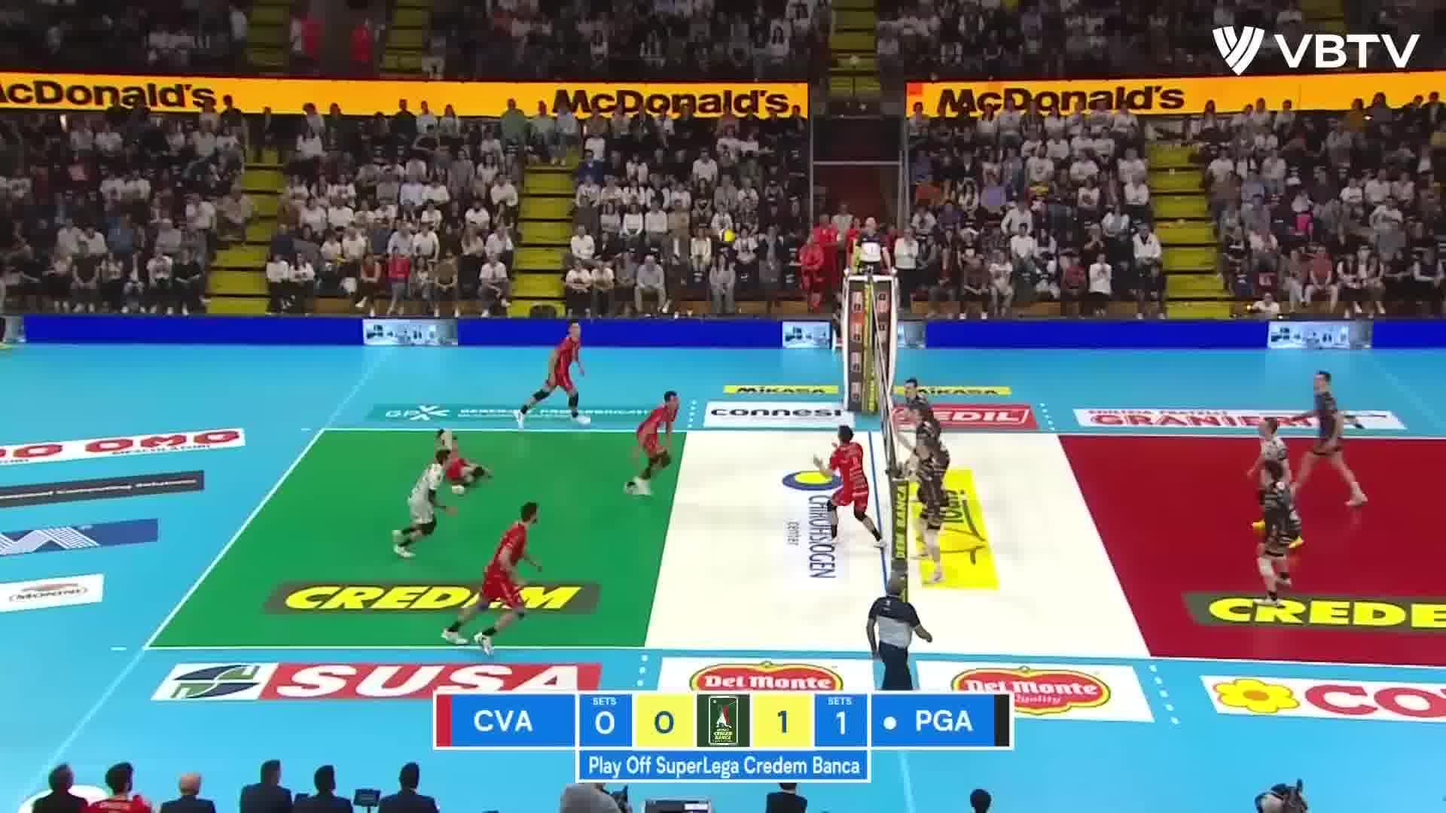balls: (717, 226, 737, 248)
